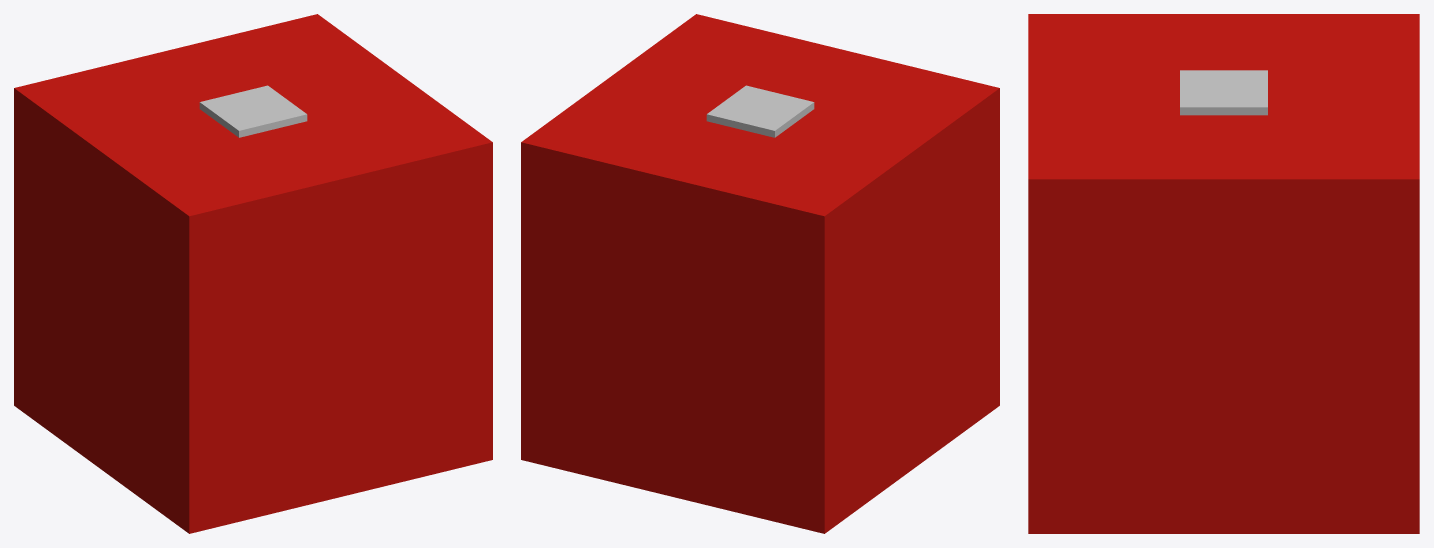
Rendered from testScene.obj.
The picture shows the model from 3 angles, left to right: view 1: azimuth 30°, elevation 25°; view 2: azimuth 150°, elevation 25°; view 3: azimuth 270°, elevation 25°; orthographic projection. The views are drawn at different scales.
Visible parts, largest first — view 1: wall, light; view 2: wall, light; view 3: wall, light.
Boxes of the visible parts, x1,y1,x2,y2 form: wall: [14, 14, 492, 533]; light: [199, 85, 307, 137]; wall: [521, 14, 999, 533]; light: [706, 85, 814, 137]; wall: [1028, 14, 1419, 533]; light: [1180, 70, 1267, 115].
Size of the model in its own units: 17.8 by 18.19 by 17.8.
